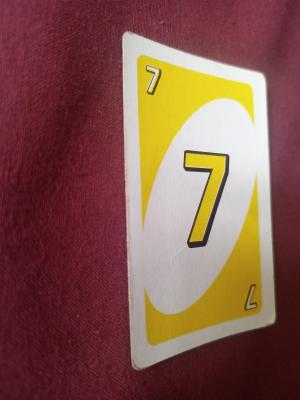num_7: (164, 140, 241, 266), (134, 55, 178, 107)
yellow: (194, 285, 267, 320)
